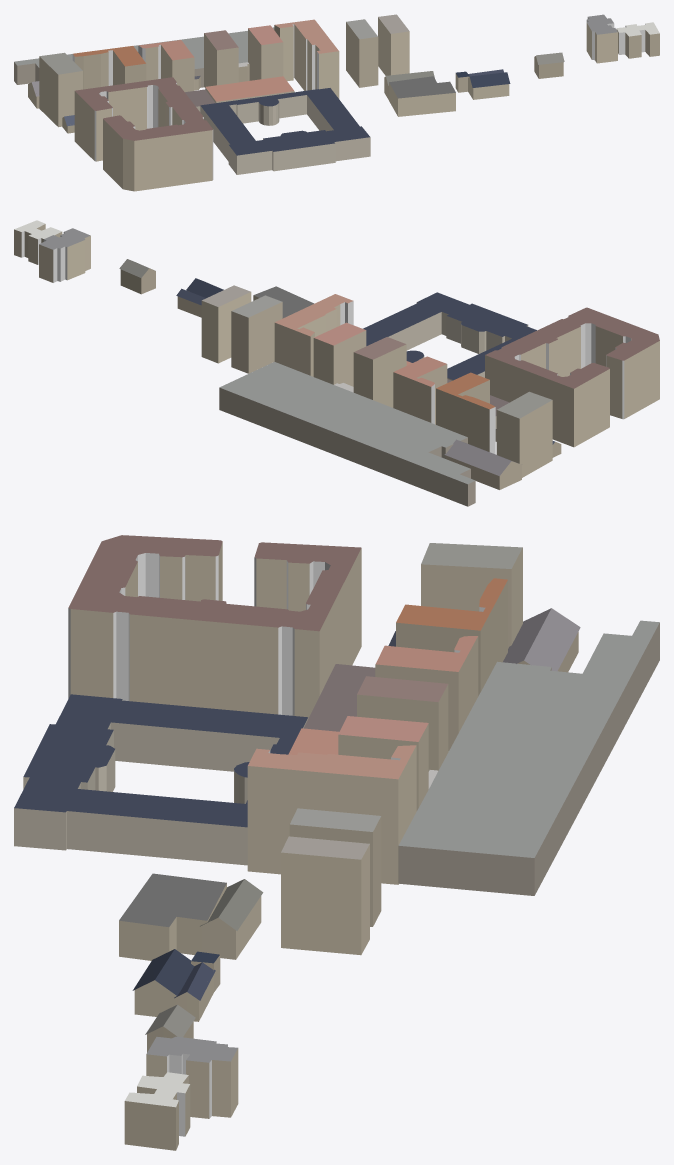
3 views of the same model, one above another, from view 1: azimuth 30°, elevation 25°; view 2: azimuth 150°, elevation 25°; view 3: azimuth 270°, elevation 25° (orthographic). The views are drawn at different scales.
Parts seen in each view (by area): view 1: tuile; view 2: tuile; view 3: tuile.
Boxes of the visible parts, left/top/right/bottom form: tuile: left=14, top=14, right=659, bottom=191; tuile: left=14, top=220, right=659, bottom=506; tuile: left=14, top=535, right=659, bottom=1150.
Size of the model in its own units: 251 by 26.09 by 132.
